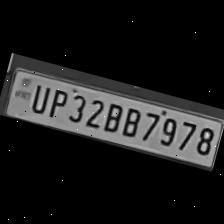2: (81, 93, 108, 130)
3: (63, 87, 90, 124)
7: (172, 114, 198, 153), (136, 105, 162, 143)
8: (190, 121, 218, 157)
9: (153, 112, 181, 148)
B: (118, 102, 146, 139), (98, 97, 125, 133)
P: (43, 83, 71, 120)
U: (24, 78, 52, 114)
